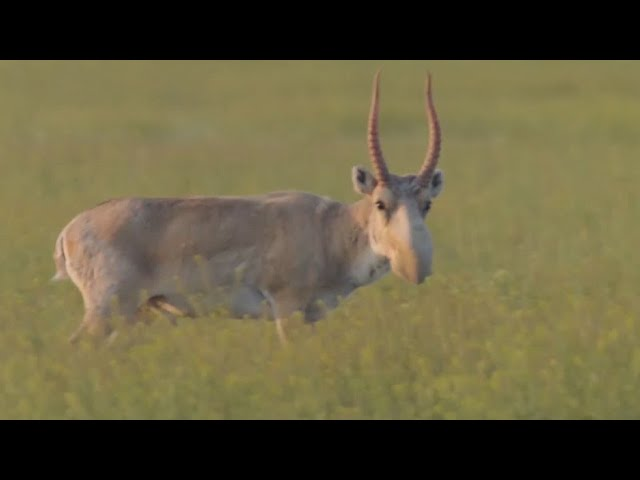saiga: (26, 71, 442, 362)
